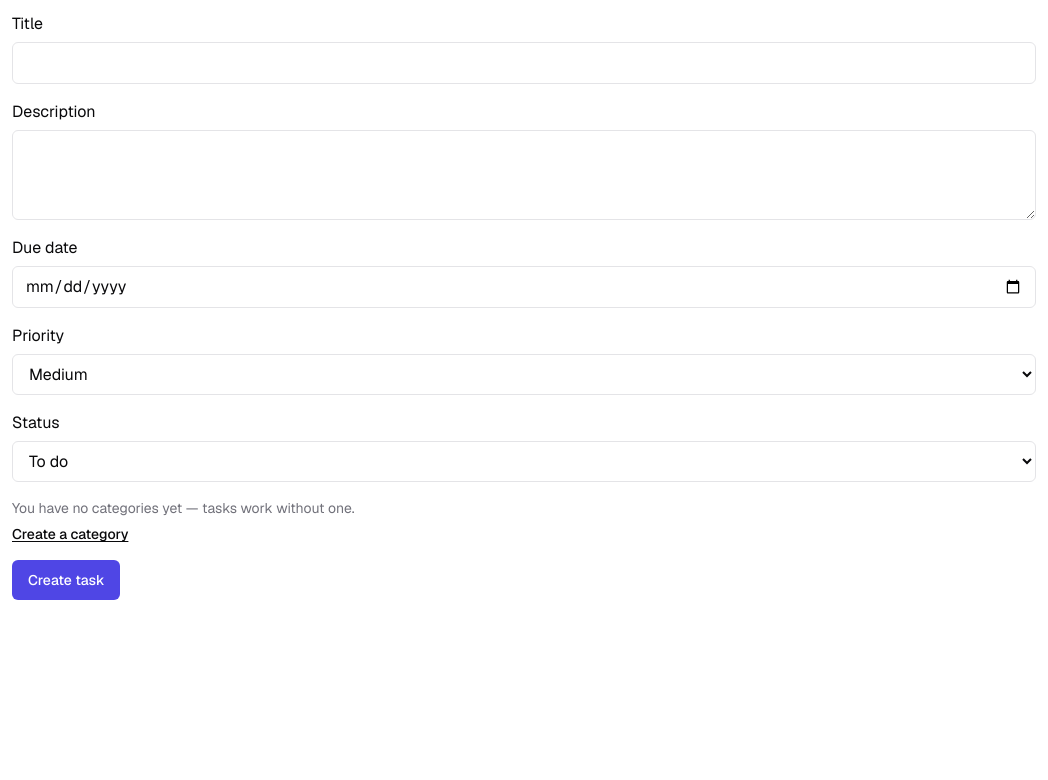
it: gates re-submission while pending (double-submit prevention, D8)
Type "Once only" into the field labelled "Title" at (524, 63), box [12,42,1036,84]
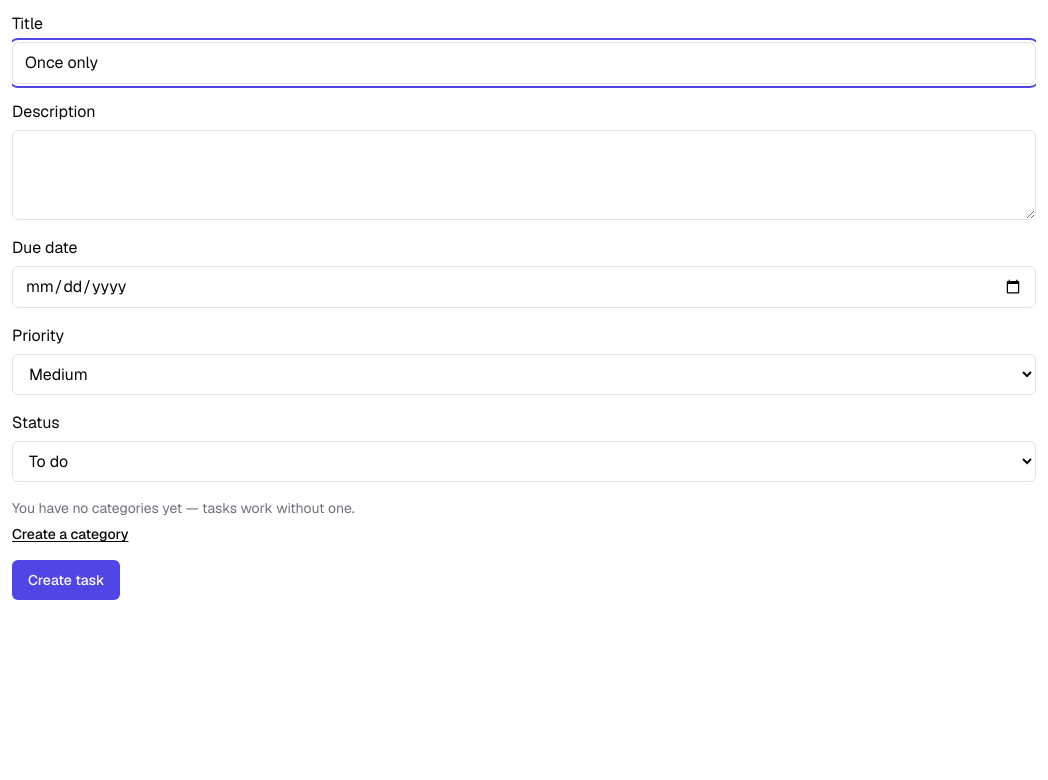
Click the button "Create task" at (66, 580), box [12,560,120,600]
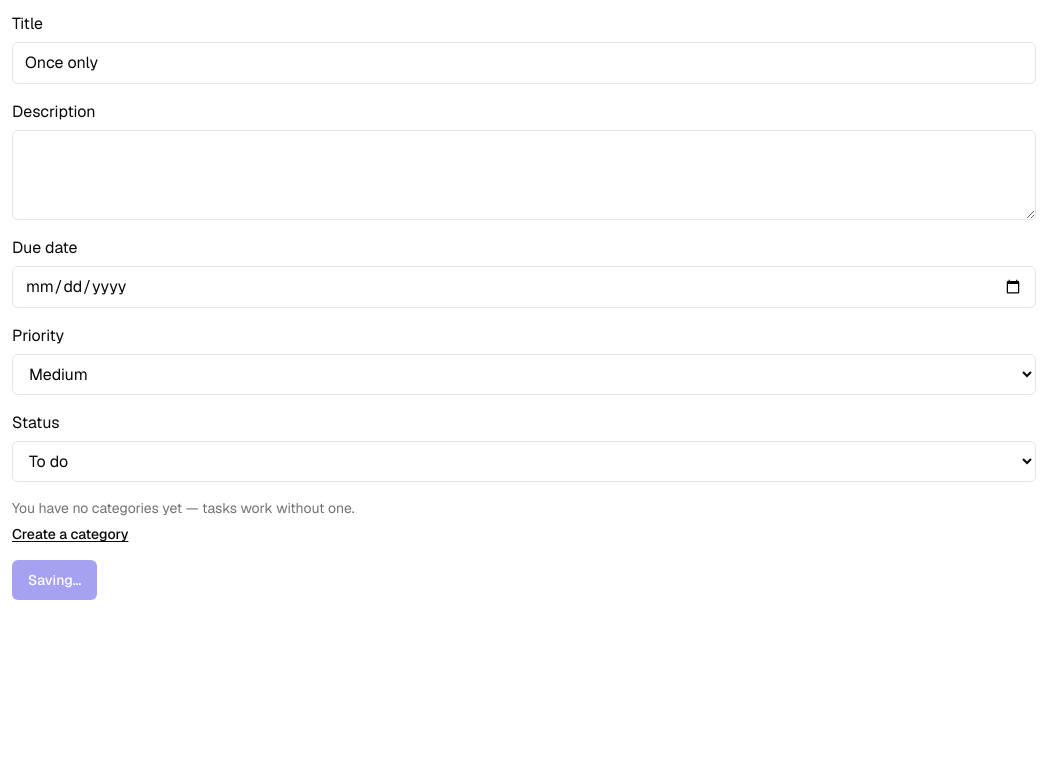
Check: the button named "Create task" is disabled
Click the button named "Create task" at (55, 580), box [12,560,97,600]
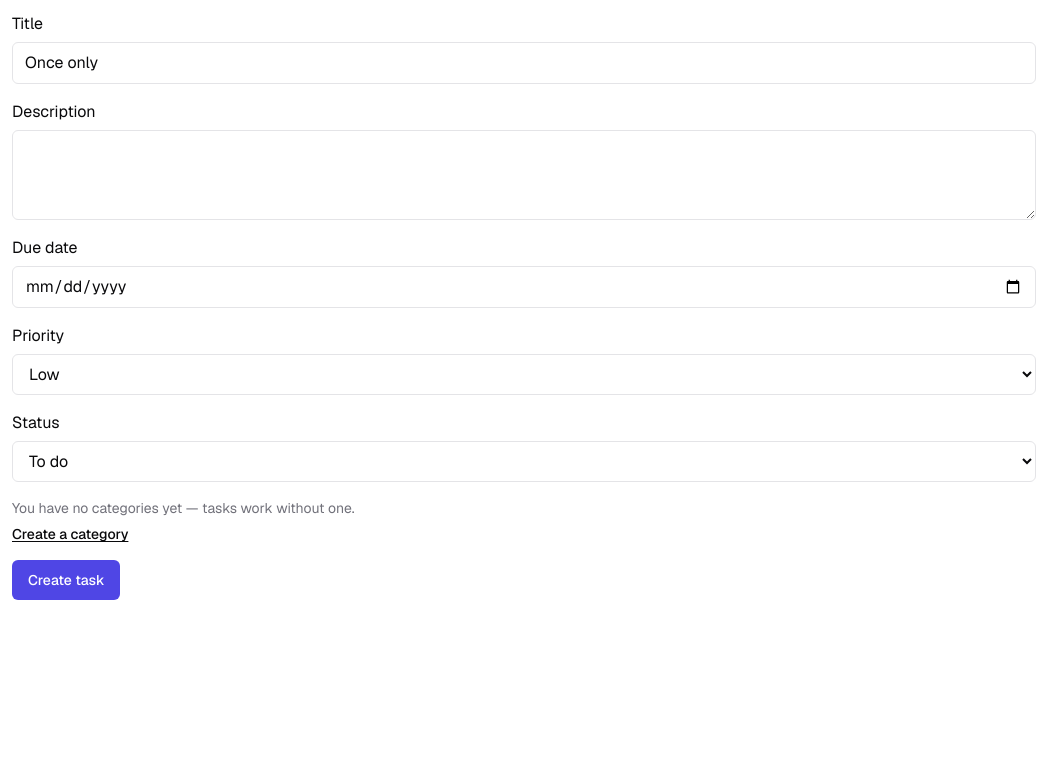
Check: the button "Create task" is enabled, box [12,560,120,600]
